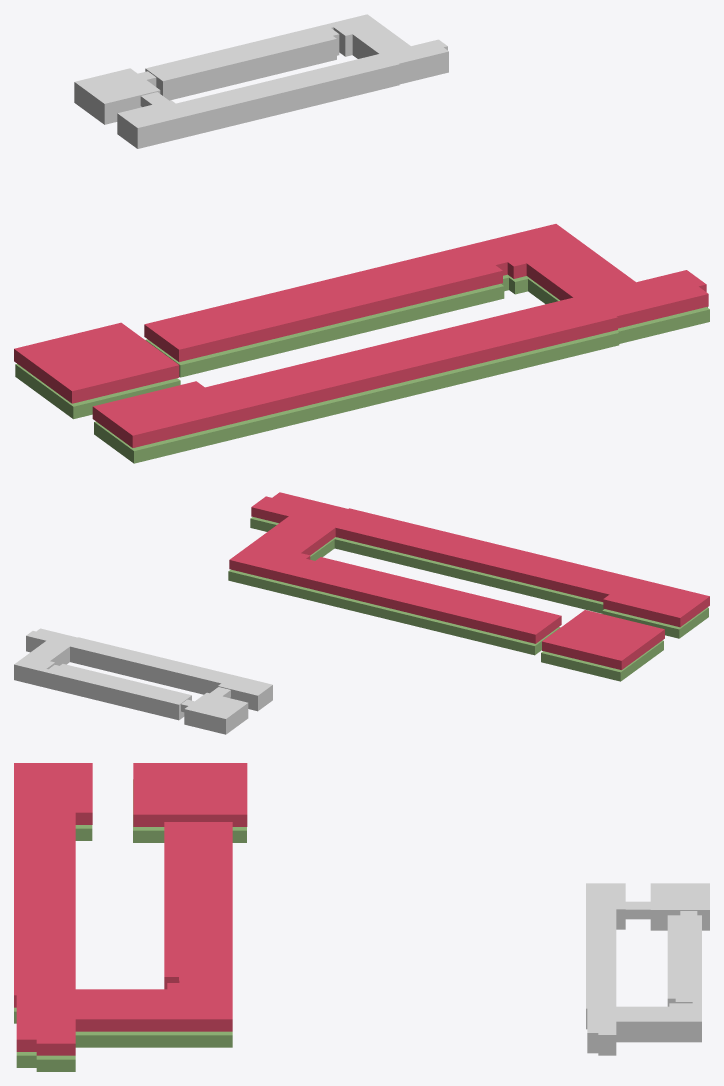
File: sss.glb
3 views of the same model, one above another, from view 1: azimuth 30°, elevation 25°; view 2: azimuth 150°, elevation 25°; view 3: azimuth 270°, elevation 25° (orthographic). The views are drawn at different scales.
Visible parts, largest first — view 1: F1, Cube, F2; view 2: F1, Cube, F2; view 3: F1, Cube, F2, 立方体.
Boxes of the visible parts, box(x1,y1,x2,y2) form: F1: box(14, 224, 708, 447); Cube: box(74, 14, 448, 148); F2: box(15, 274, 709, 463); F1: box(229, 492, 709, 669); Cube: box(14, 628, 272, 734); F2: box(228, 517, 708, 681); F1: box(14, 763, 247, 1055); Cube: box(586, 883, 709, 1055); F2: box(14, 779, 246, 1071); 立方体: box(625, 901, 650, 919).
Size of the model in its own units: 9.18 by 0.7203 by 9.2.
